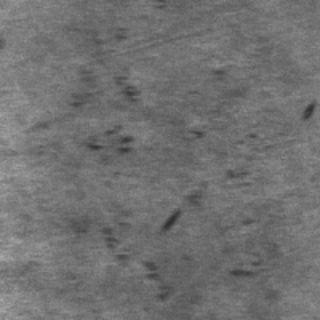rolled pit: (170, 125, 272, 285), (66, 59, 142, 155), (98, 221, 166, 299)
